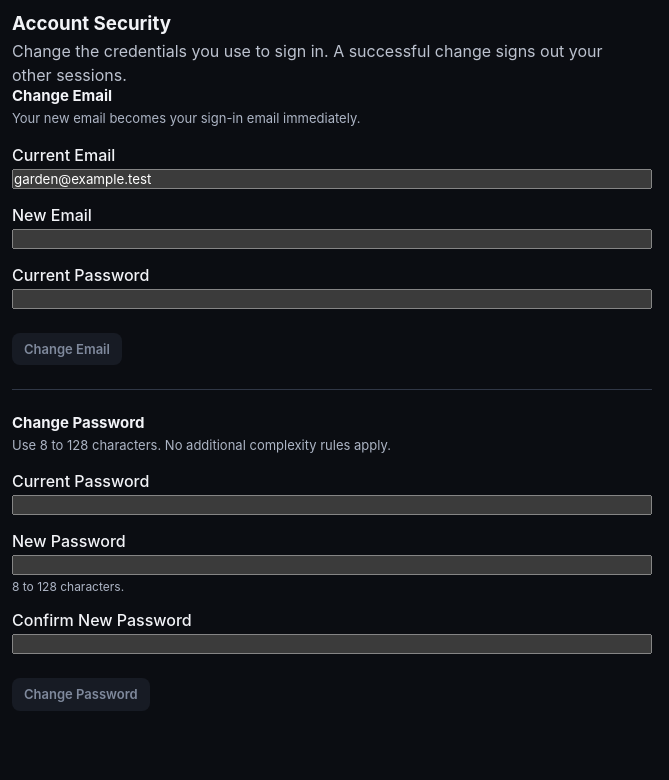
Scenario: Account Security settings › clears all password fields after an authoritative password failure
This screenshot has width=669, height=780.
Type "current-password" into the 2nd password field labelled "Current Password". click: x=332, y=505
box: x1=12 y1=495 x2=652 y2=515
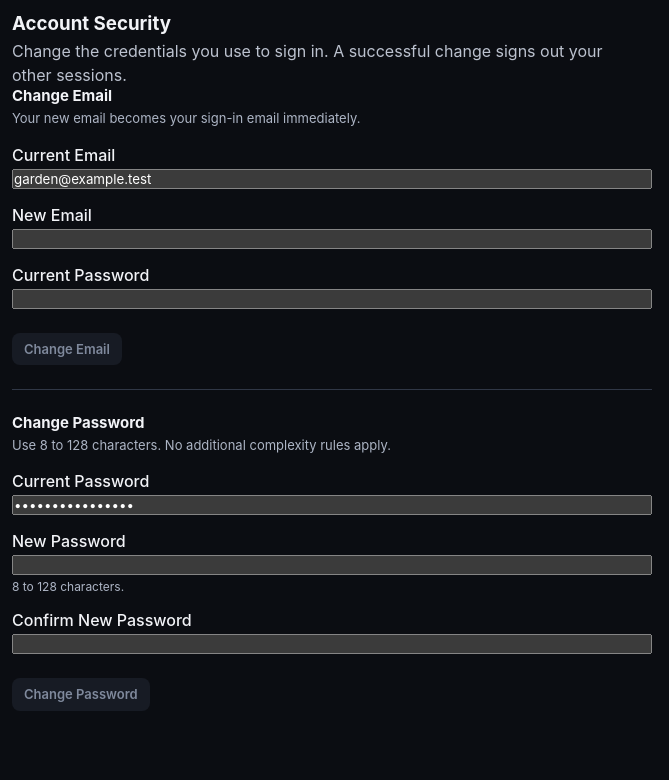
Type "new-valid-password" into the password field labelled "New Password". click: x=332, y=565
box: x1=12 y1=555 x2=652 y2=575
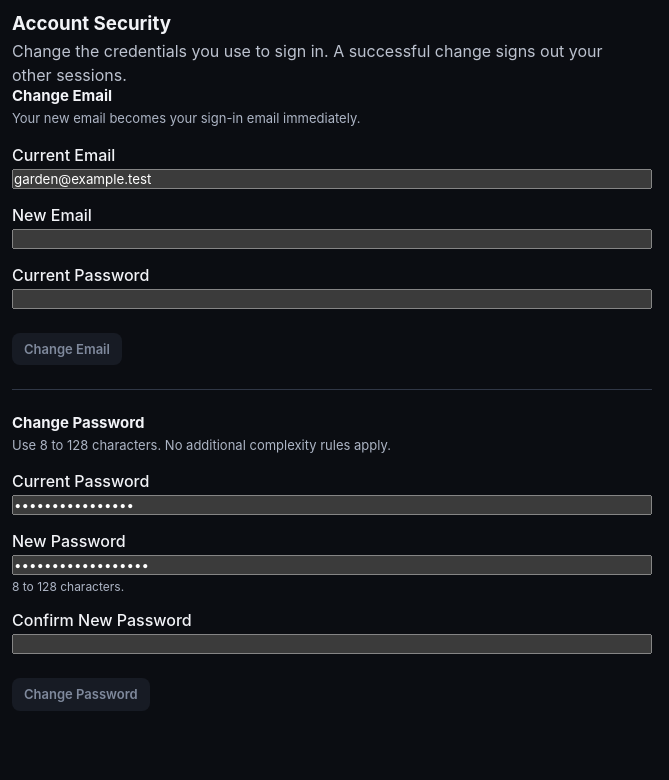
Type "new-valid-password" into the password field labelled "Confirm New Password". click: x=332, y=644
box: x1=12 y1=634 x2=652 y2=654
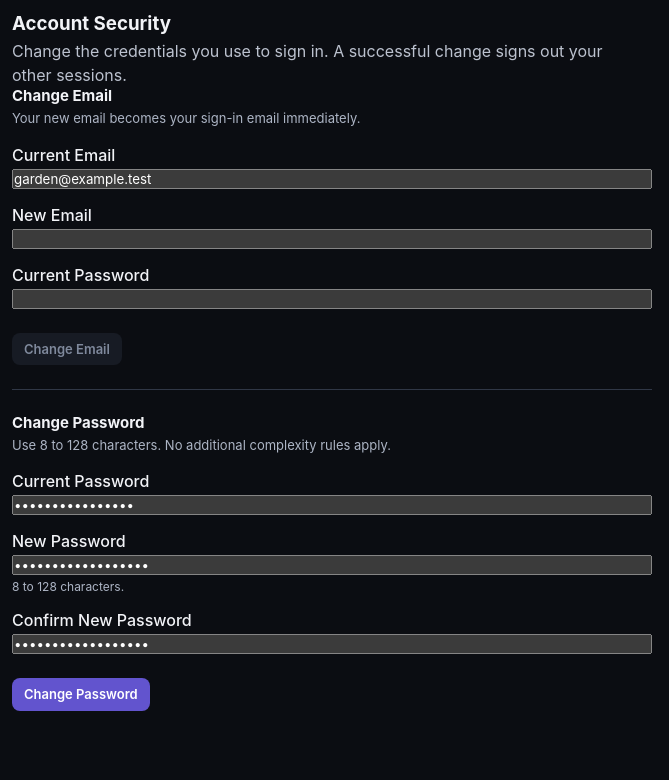
Click the button "Change Password". click: x=81, y=694
box: x1=12 y1=678 x2=150 y2=711
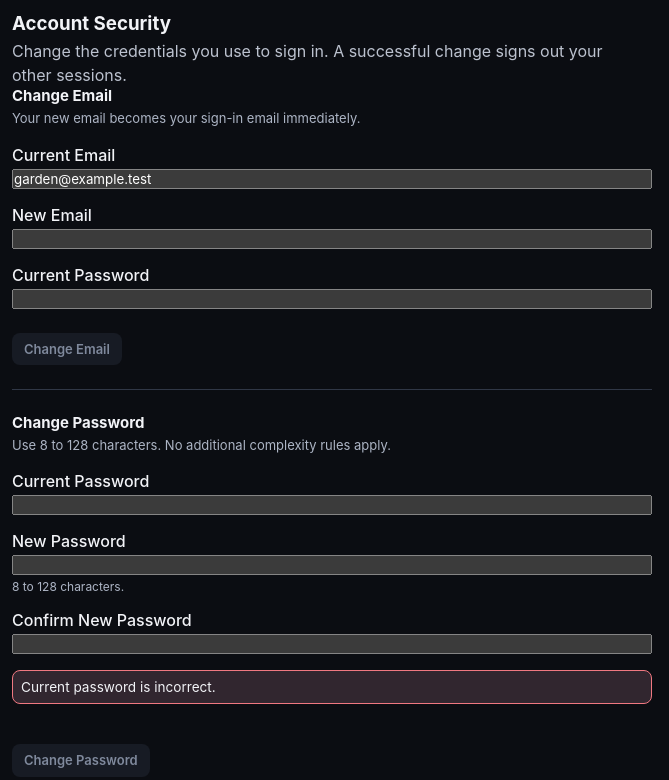
Expected: the message shows "Current password is incorrect", x1=21 y1=679 x2=216 y2=695
Expected: the 2nd password field labelled "Current Password" is empty, x1=12 y1=495 x2=652 y2=515
Expected: the password field labelled "New Password" is empty, x1=12 y1=555 x2=652 y2=575
